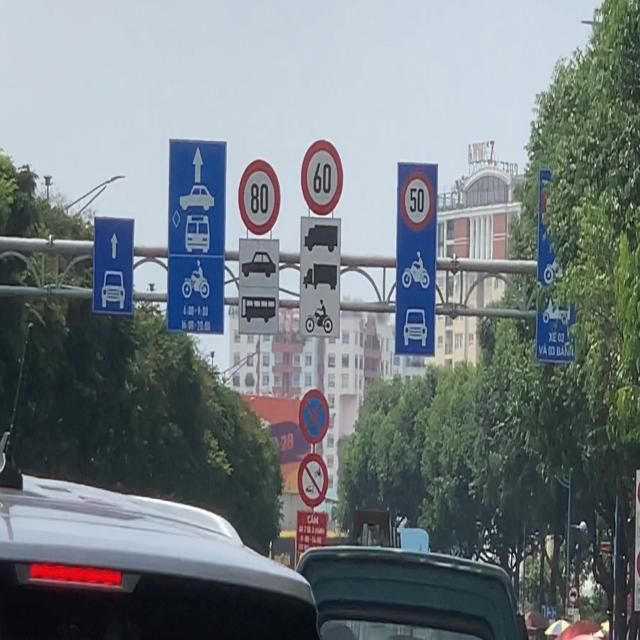Cam con lai: (297, 452, 329, 508)
Cam dung va do: (298, 389, 329, 444)
Toc do toi da: (300, 139, 344, 216), (238, 159, 281, 236), (400, 169, 434, 231)
